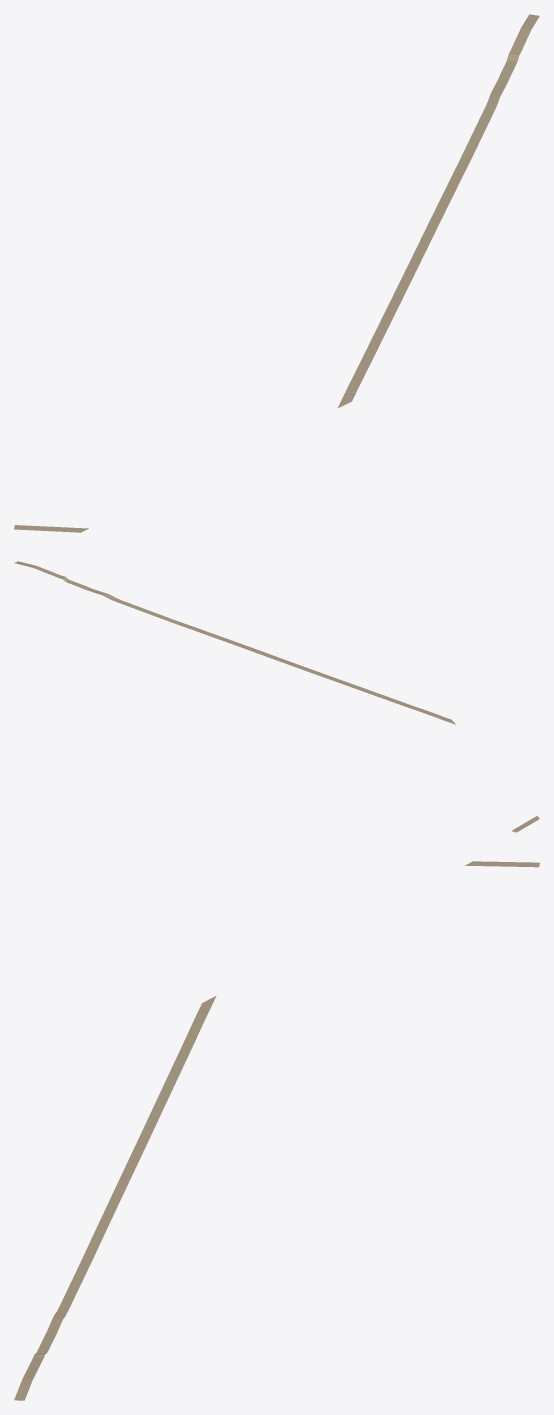
File: farm_18_24_track.glb
The picture shows the model from 3 angles, top to bottom: view 1: azimuth 90°, elevation 25°; view 2: azimuth 150°, elevation 25°; view 3: azimuth 270°, elevation 25°; orthographic projection. The views are drawn at different scales.
Parts seen in each view (by area): view 1: geometry_0; view 2: geometry_0; view 3: geometry_0.
Part boxes in pixels (<box>): geometry_0: <box>14,14,539,532</box>; geometry_0: <box>14,561,539,832</box>; geometry_0: <box>14,861,539,1400</box>.
Bounding box in the file's own units: 378 × 4.25 × 159.
